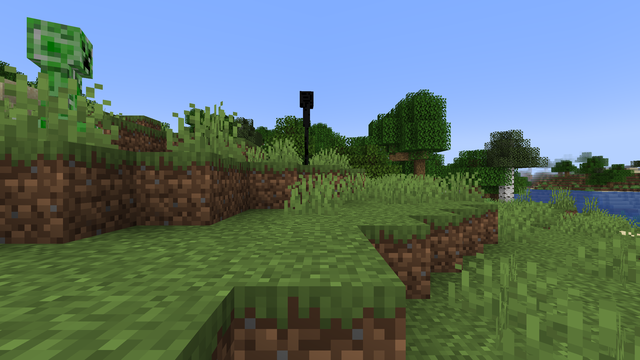creepers: (14, 12, 102, 124)
endermens: (297, 88, 314, 150)
